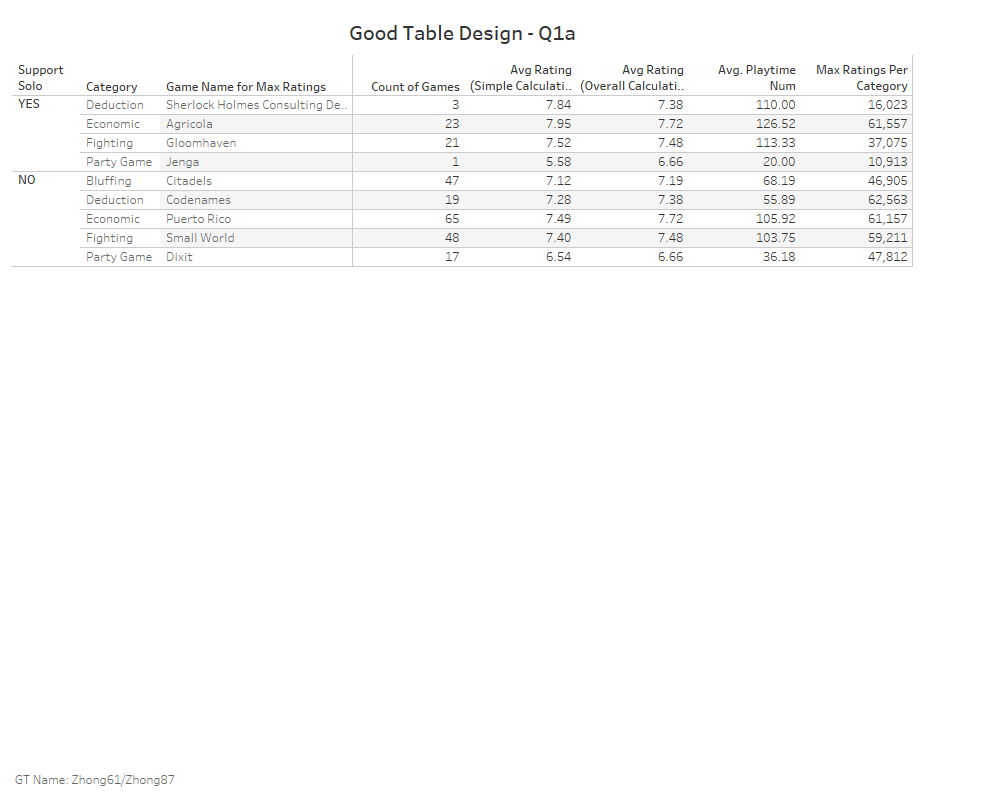

The page's visual inventory and layout, read from the dashboard file:
{"tool":"tableau","page":{"name":"Dashboard 1","canvas":[1000,800],"ordinal":0},"visuals":[{"type":"worksheet","title":"Table Q1a","mark":"Automatic","rows":["Calculation_1642125067391549443","category","Calculation_1642125067421339659"],"box":[8,8,984,392]},{"type":"text","box":[8,400,984,392]}]}

Visuals, with their boxes in screenshot pixels (x1, y1, x2, y2), scaled from the page's 1000x800 canvas onto the 1000x800 screenshot:
"Table Q1a" worksheet: Rect(8, 8, 992, 400)
text: Rect(8, 400, 992, 792)
